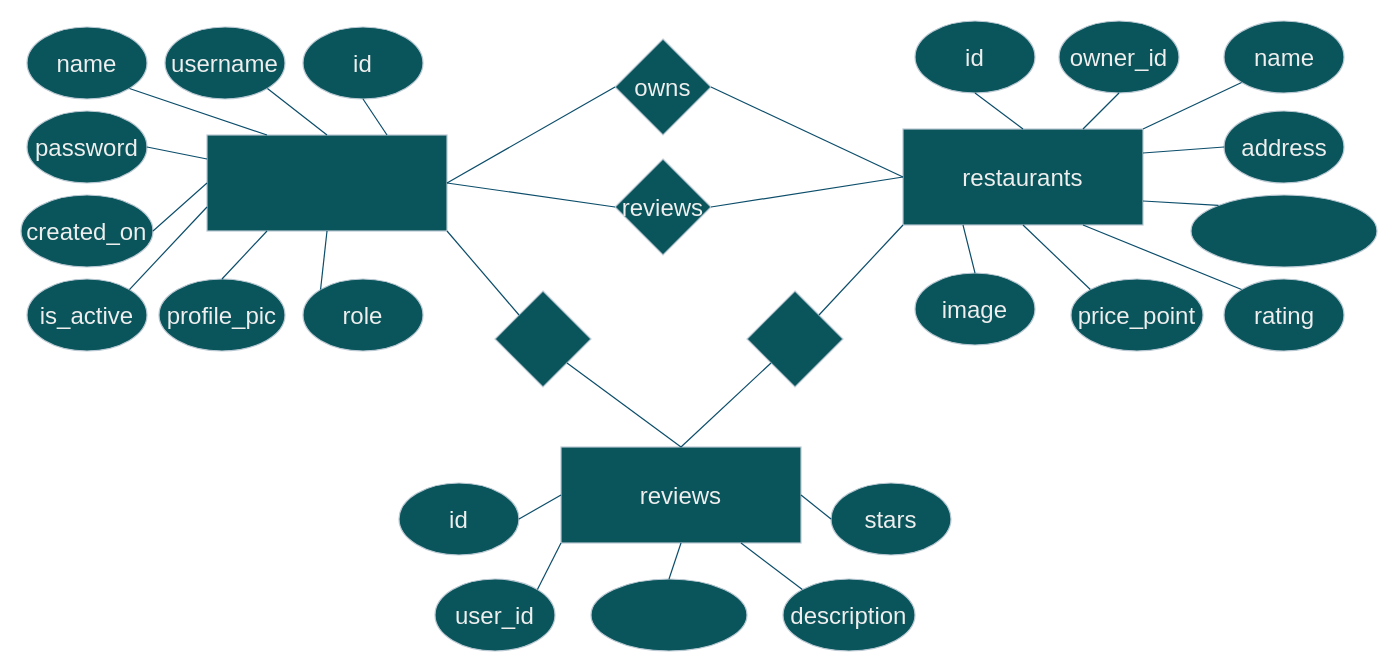
This 1398x672 diagram has some shape labels left out. Each missing label, with the centre of its shape:
has: the point at 794,338
makes: the point at 542,338
number_reviews: the point at 1283,230
restaurant_id: the point at 668,614
users: the point at 326,182
